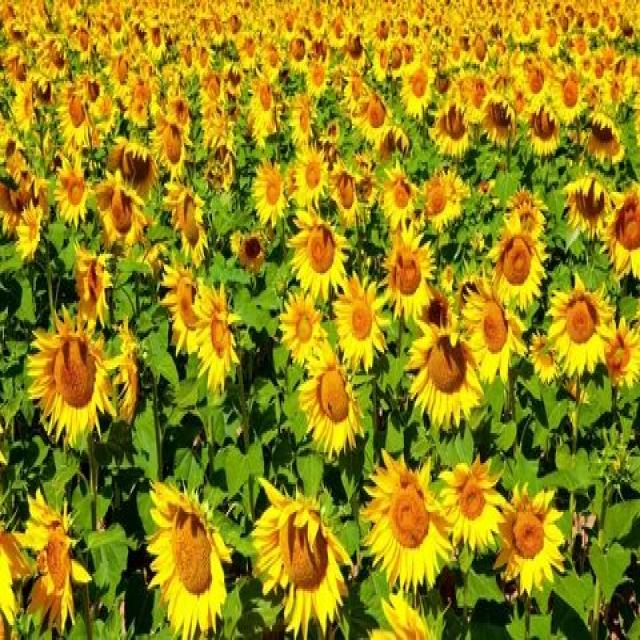sunflower: (247, 465, 352, 640), (133, 469, 231, 638), (364, 444, 451, 604), (27, 310, 118, 452), (19, 484, 92, 634), (406, 316, 482, 437), (297, 342, 364, 468), (549, 271, 615, 392), (191, 277, 244, 399), (491, 213, 553, 316), (380, 222, 433, 320), (285, 211, 352, 288), (562, 162, 618, 252), (70, 241, 118, 337), (161, 177, 211, 267), (525, 94, 572, 162), (52, 154, 93, 230), (431, 92, 473, 164), (353, 86, 396, 152), (249, 158, 287, 224), (284, 90, 313, 149)
